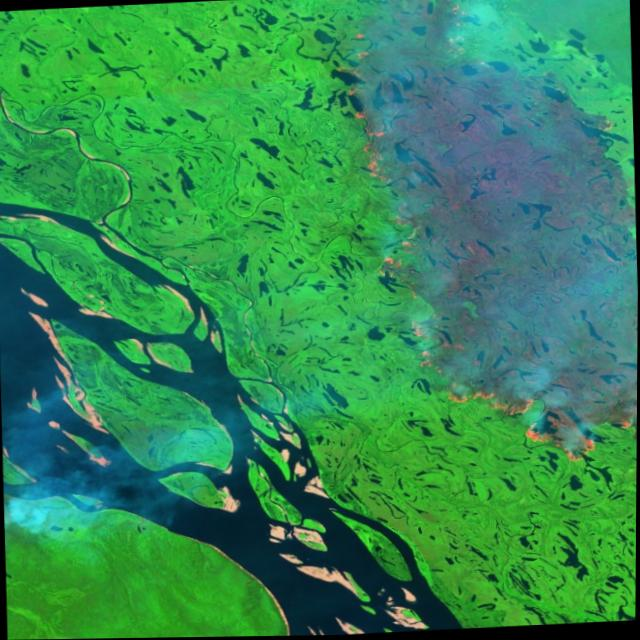fire: (321, 0, 640, 480)
